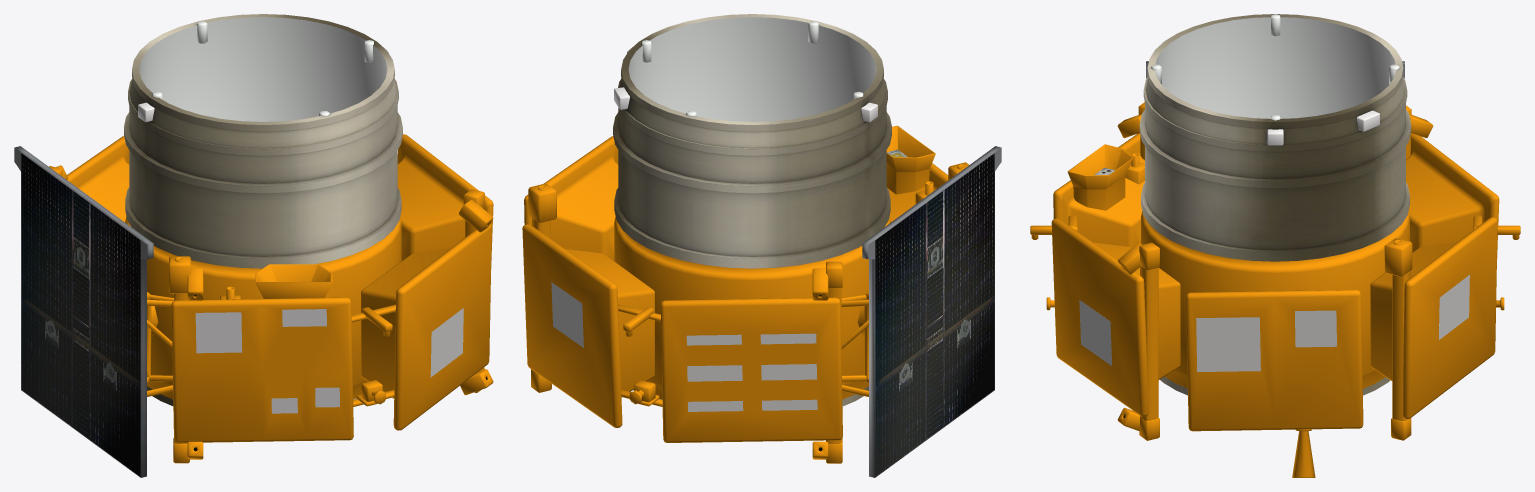
The model's file is lcross.glb.
3 views of the same model, side by side, from view 1: azimuth 30°, elevation 25°; view 2: azimuth 150°, elevation 25°; view 3: azimuth 270°, elevation 25° (orthographic). The views are drawn at different scales.
Visible parts, largest first — view 1: BUS, BUS_brass, Array, reflectors; view 2: BUS, BUS_brass, Array, reflectors, foil_boxes; view 3: BUS, BUS_brass, reflectors, star_tracker, foil_boxes.
Boxes of the visible parts, <box> form: BUS: <box>49,17,493,463</box>; BUS_brass: <box>124,14,402,405</box>; Array: <box>14,146,153,477</box>; reflectors: <box>195,308,463,413</box>; BUS: <box>522,17,968,463</box>; BUS_brass: <box>613,14,907,406</box>; Array: <box>862,146,1001,477</box>; reflectors: <box>551,282,817,411</box>; foil_boxes: <box>614,46,877,122</box>; BUS: <box>1030,14,1520,440</box>; BUS_brass: <box>1094,14,1411,395</box>; reflectors: <box>1079,275,1469,371</box>; star_tracker: <box>1292,429,1315,477</box>; foil_boxes: <box>1267,110,1379,145</box>.
Bounding box in the file's own units: 3.06 × 2.67 × 3.6.
4 materials, 4 textured.
